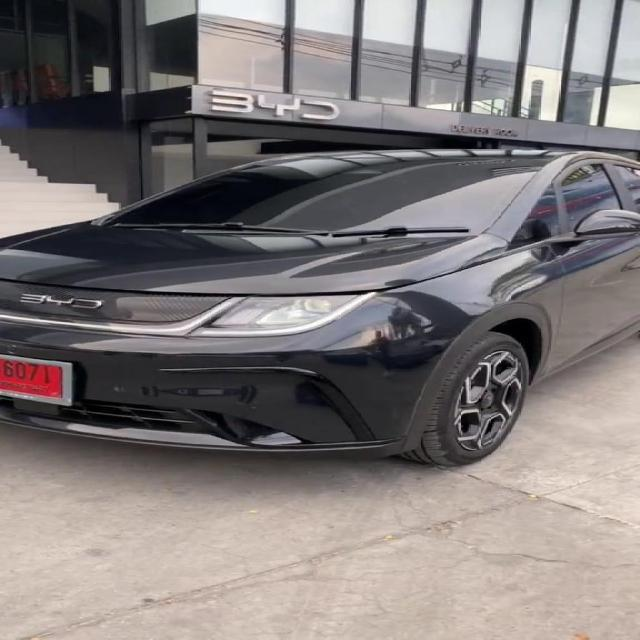Hatchback: (0, 148, 639, 466)
